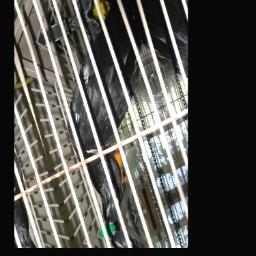Crow: (40, 0, 186, 231)
